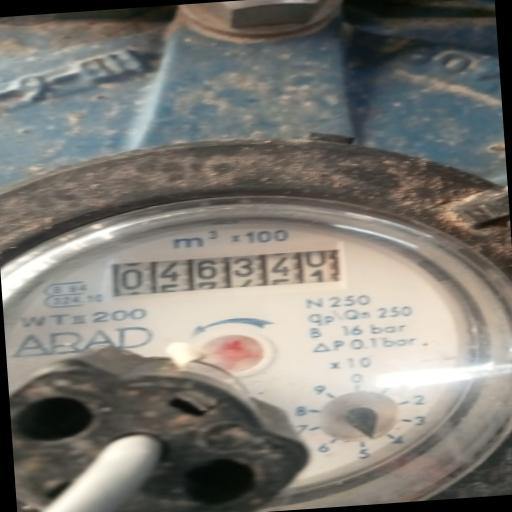0: (115, 266, 151, 292)
1: (304, 266, 332, 284)
3: (230, 256, 267, 279)
4: (154, 260, 186, 284), (266, 254, 296, 278)
6: (188, 259, 222, 283)
medida: (111, 249, 340, 298)
